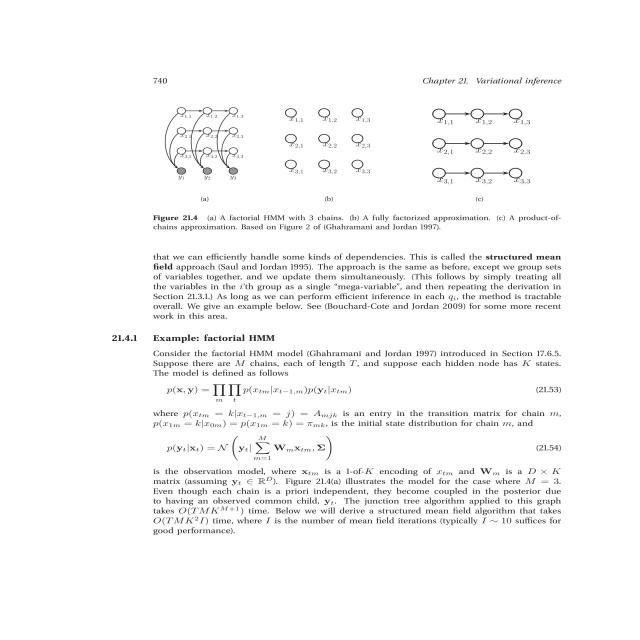diagram: (76, 94, 598, 242)
